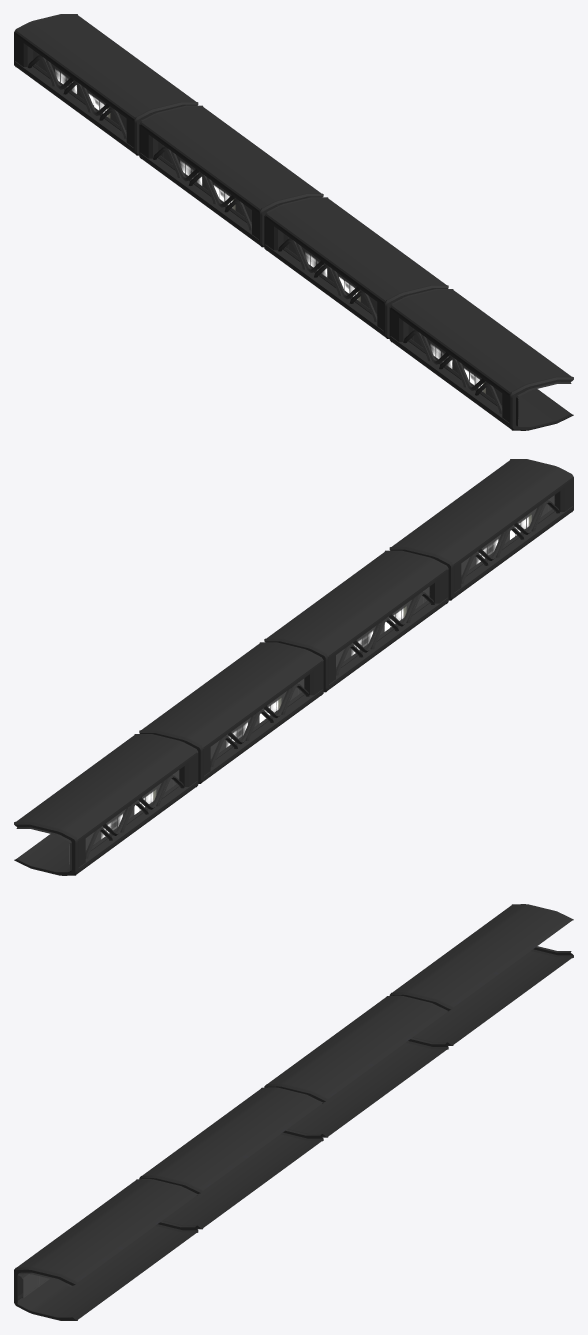
The model's file is longbox.glb.
The picture shows the model from 3 angles, top to bottom: view 1: azimuth 30°, elevation 25°; view 2: azimuth 150°, elevation 25°; view 3: azimuth 330°, elevation 25°; orthographic projection.
Parts seen in each view (by area): view 1: SM_RaisedCityTest1.001_Baked; view 2: SM_RaisedCityTest1.001_Baked; view 3: SM_RaisedCityTest1.001_Baked.
Boxes of the visible parts, bbox=[...] form: SM_RaisedCityTest1.001_Baked: bbox=[14, 14, 573, 430]; SM_RaisedCityTest1.001_Baked: bbox=[14, 459, 573, 875]; SM_RaisedCityTest1.001_Baked: bbox=[14, 904, 573, 1320].
Size of the model in its own units: 0.5903 by 0.4113 by 8.05.
1 material, 1 textured.
